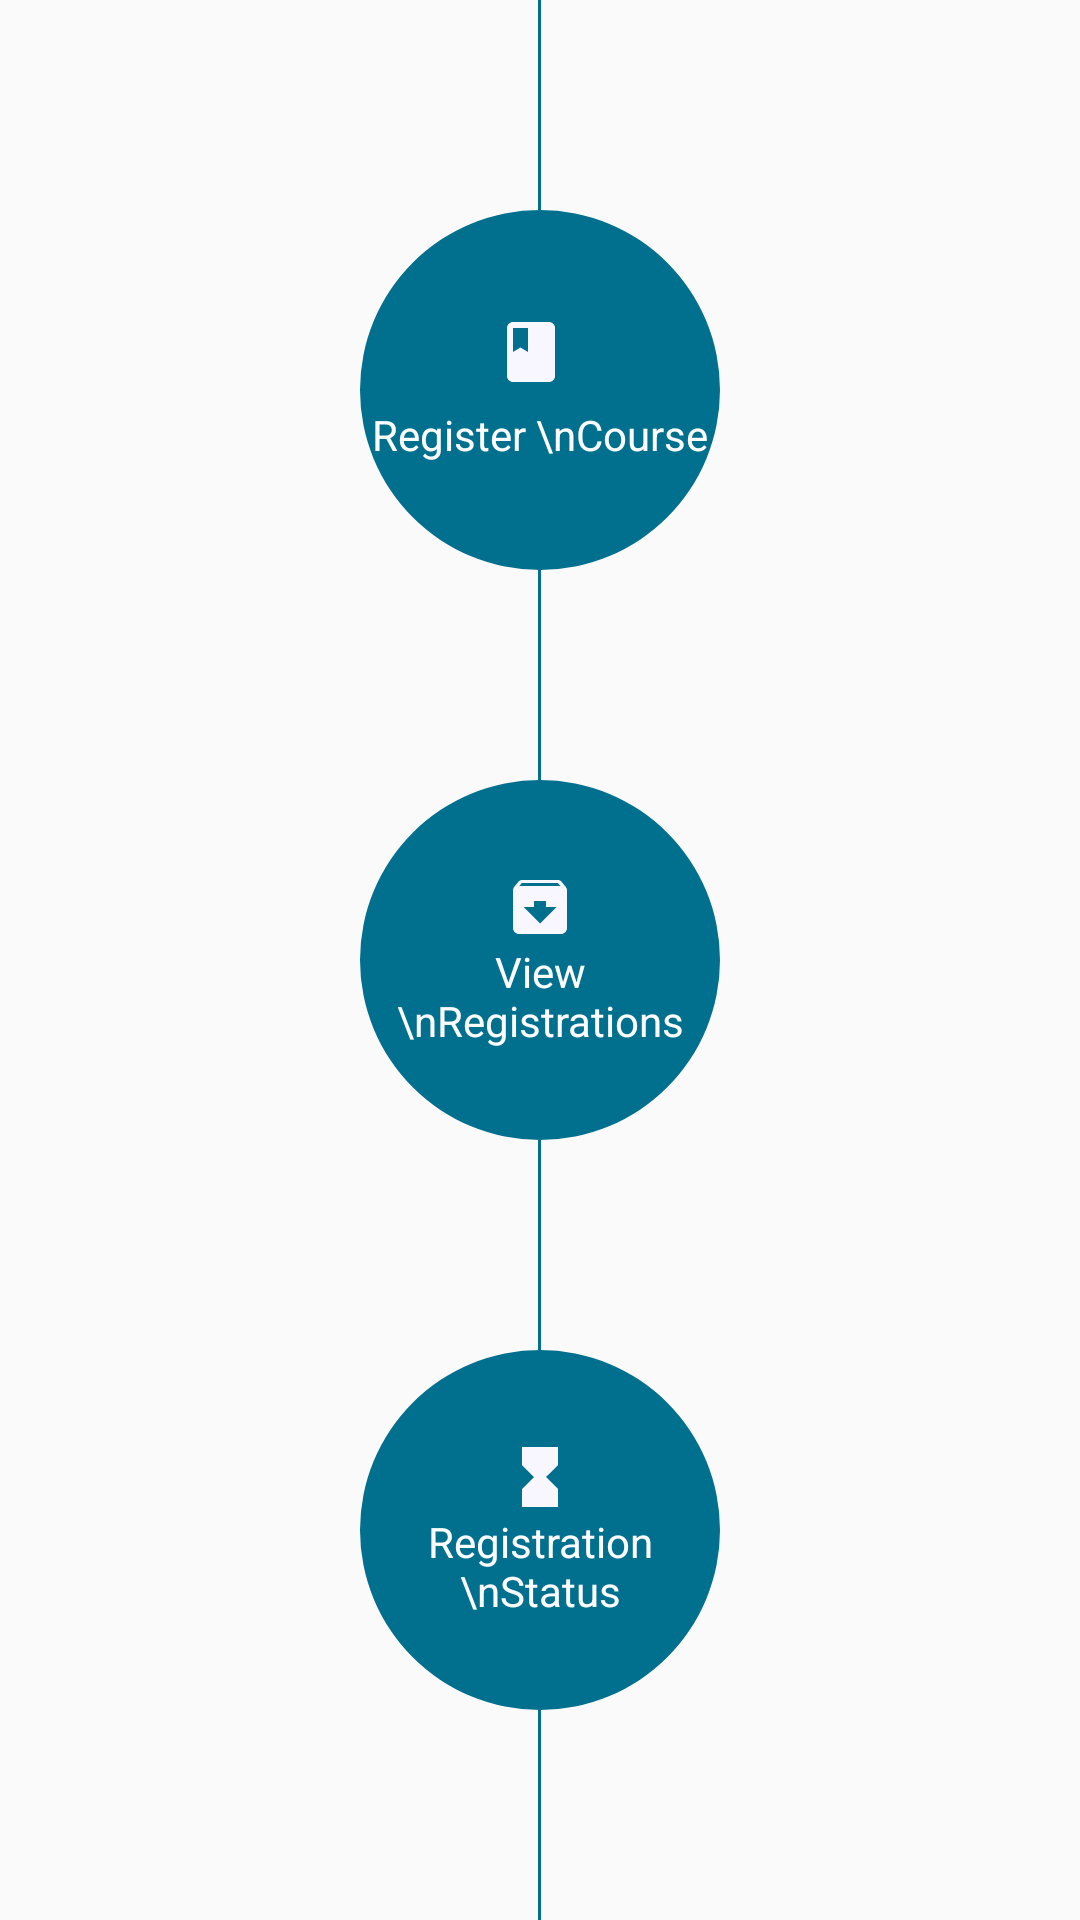

Icons on this 1080px x 1920px Android screen, each with the point to tap as [x,y]:
view progress: [540,1477]
